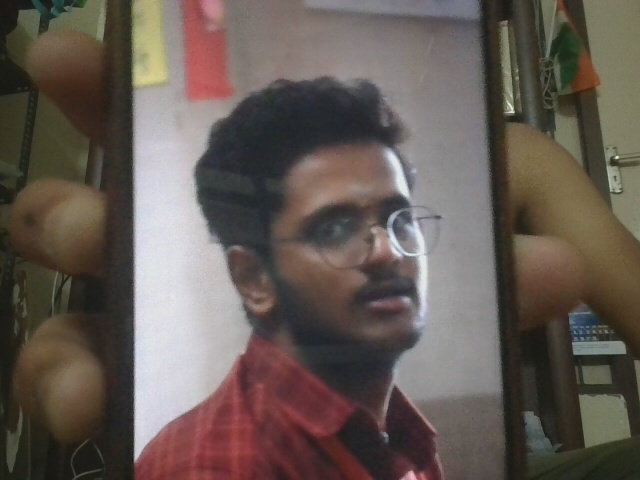fake: (265, 133, 487, 355)
